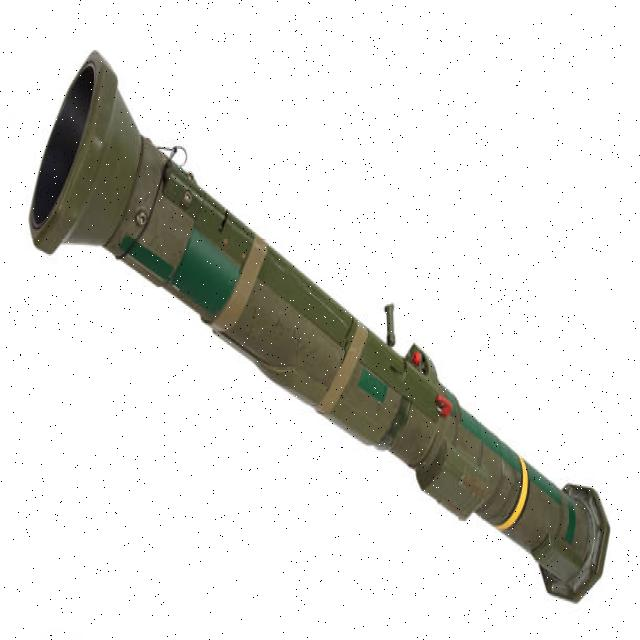bazooka: (22, 43, 615, 621)
